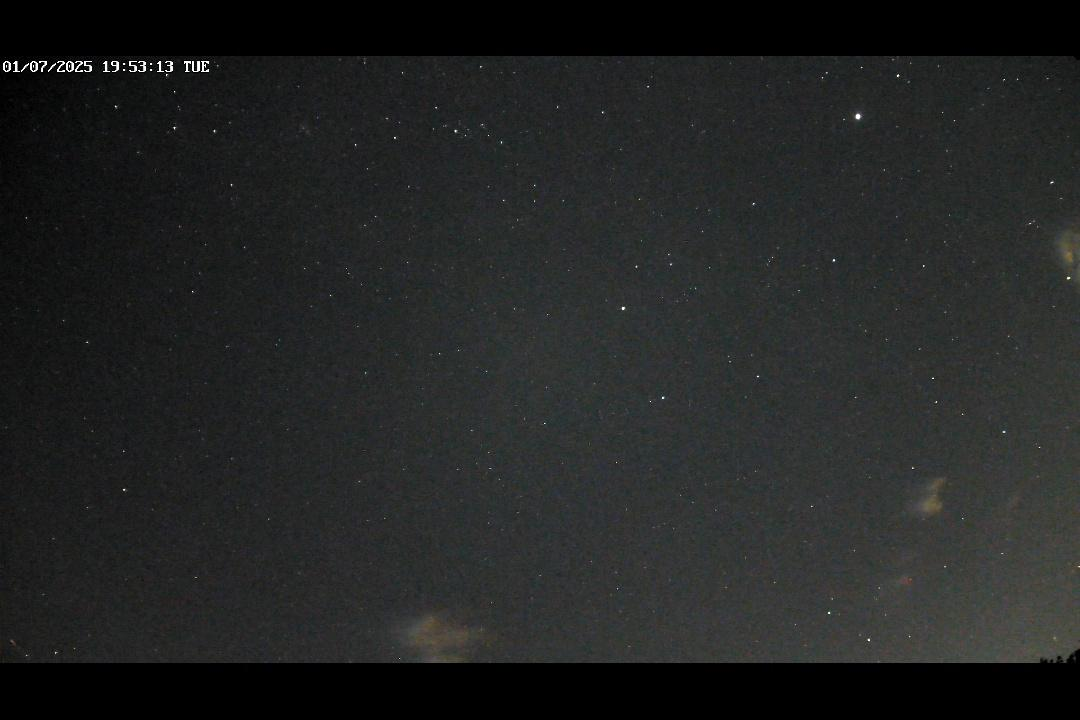Plane: (9, 635, 33, 660)
